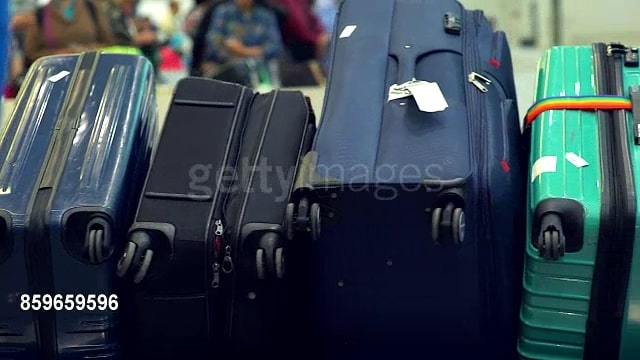baggage: (316, 1, 522, 356), (137, 71, 312, 360), (1, 53, 153, 354), (520, 40, 640, 355)
